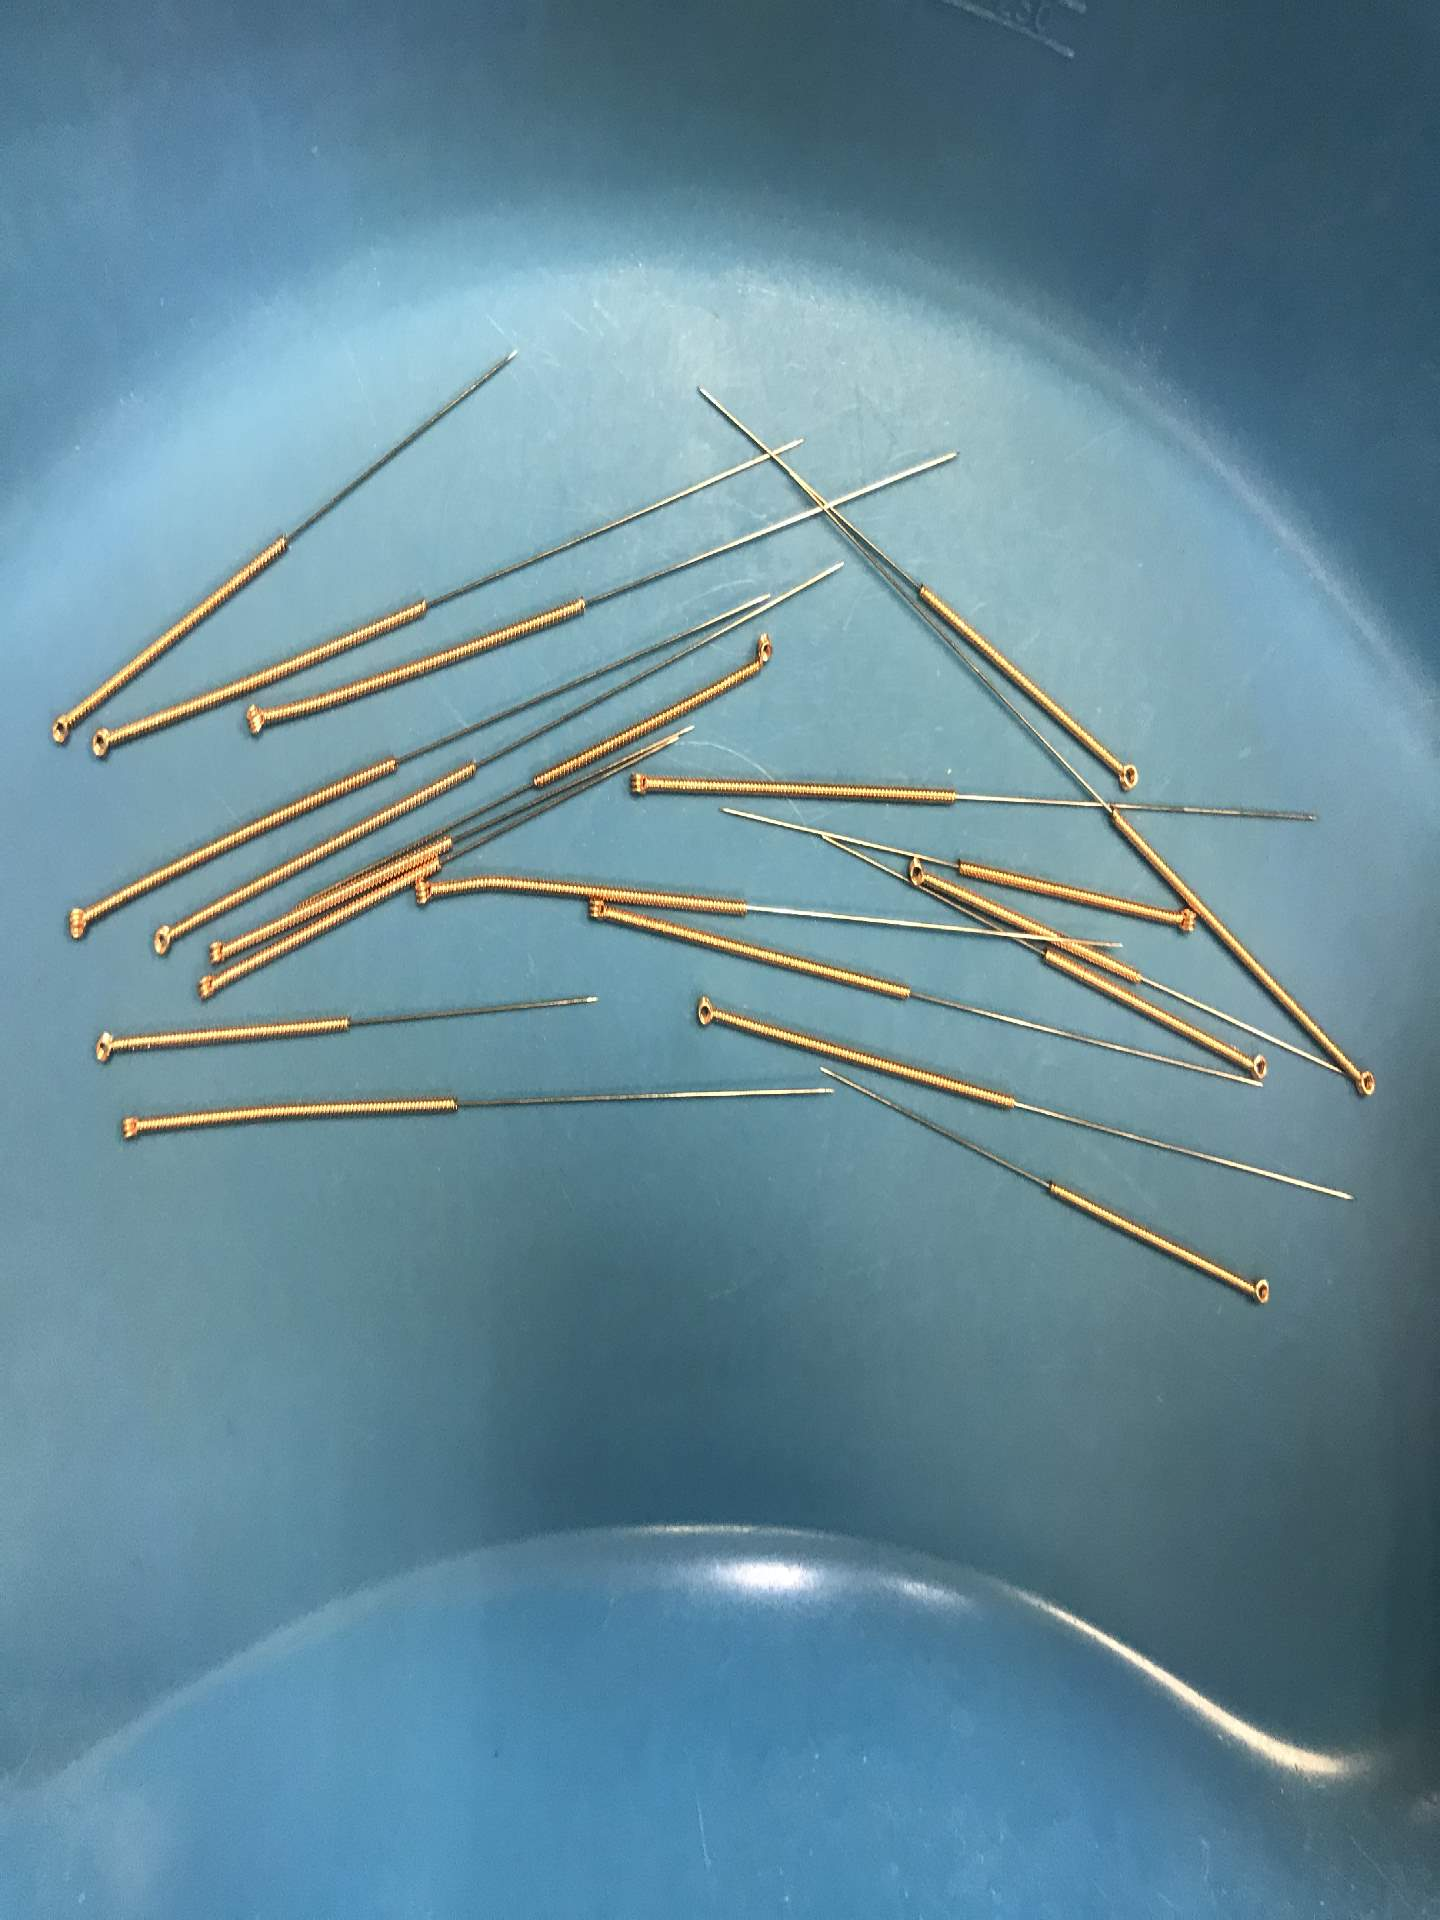needle: (51, 898, 101, 951), (142, 915, 188, 965), (684, 987, 728, 1039), (39, 701, 82, 751), (1343, 1057, 1384, 1108), (234, 697, 278, 742), (80, 720, 123, 766), (110, 1107, 153, 1154), (85, 1023, 127, 1069), (1107, 750, 1147, 797), (617, 765, 663, 804), (186, 968, 228, 1008), (198, 928, 239, 969), (408, 872, 448, 915), (1237, 1046, 1277, 1089), (1239, 1270, 1278, 1312), (1165, 903, 1201, 942), (900, 856, 936, 893), (581, 892, 616, 931), (750, 627, 779, 674)
